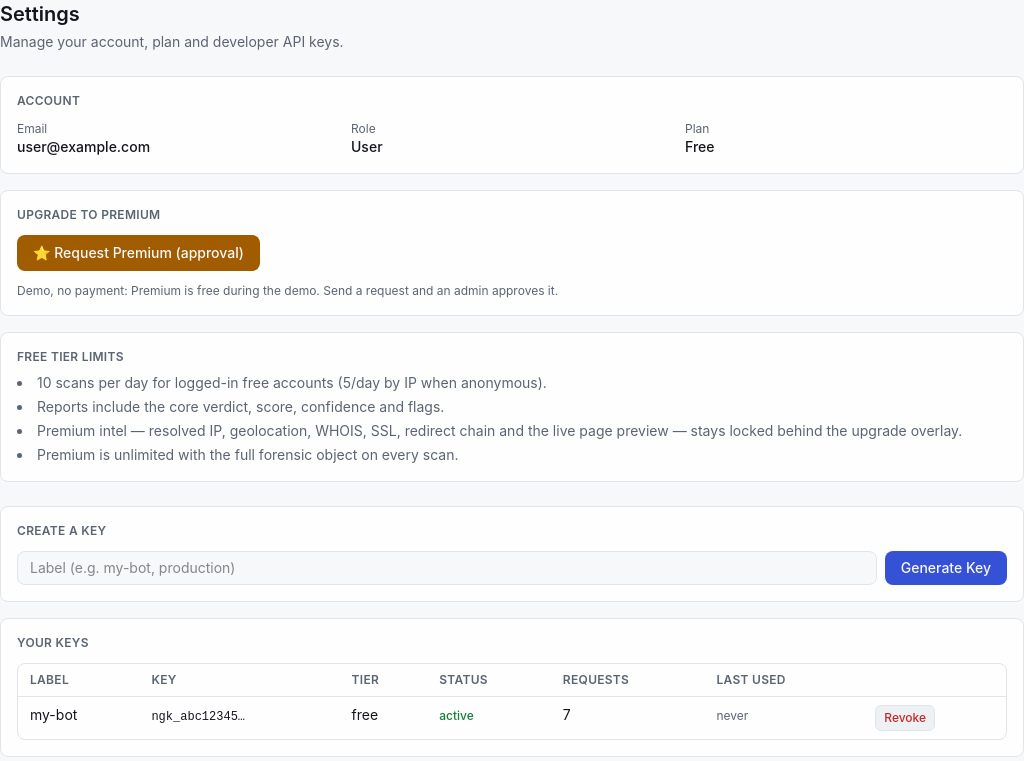
Test case: creating a key reveals the secret exactly once with a copy notice
Type "production" into the field with placeholder "Label (e.g. my-bot, production)" at (447, 568), box [17,551,877,585]
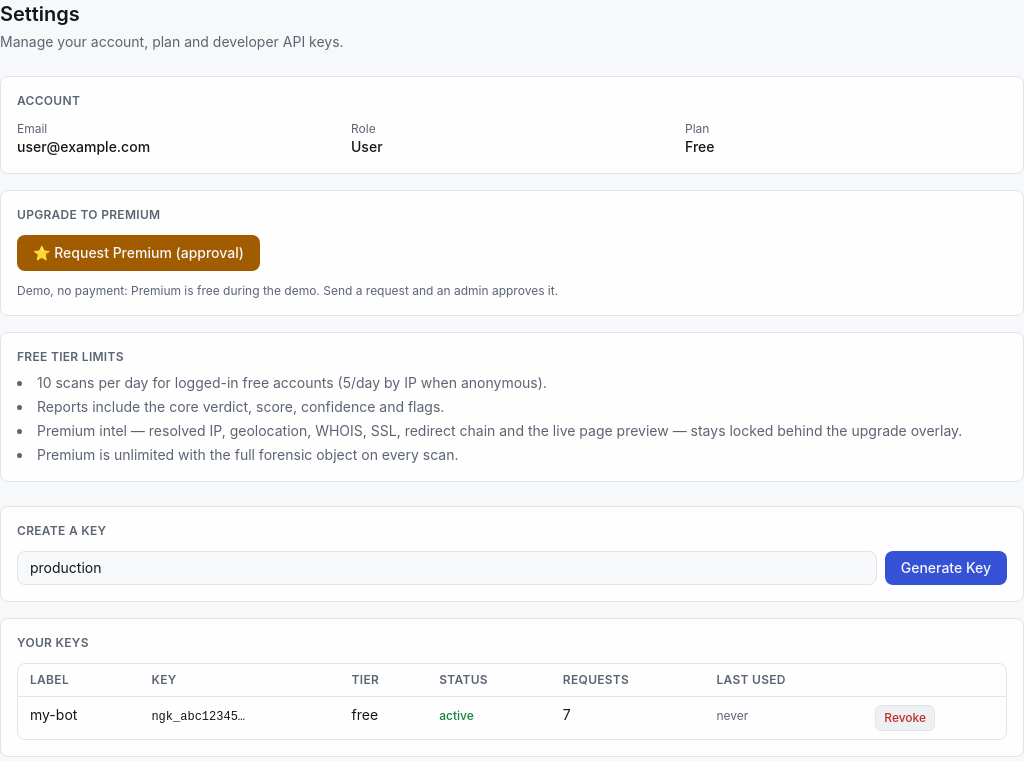
Click the button "Generate Key" at (946, 568), box [885,551,1007,585]
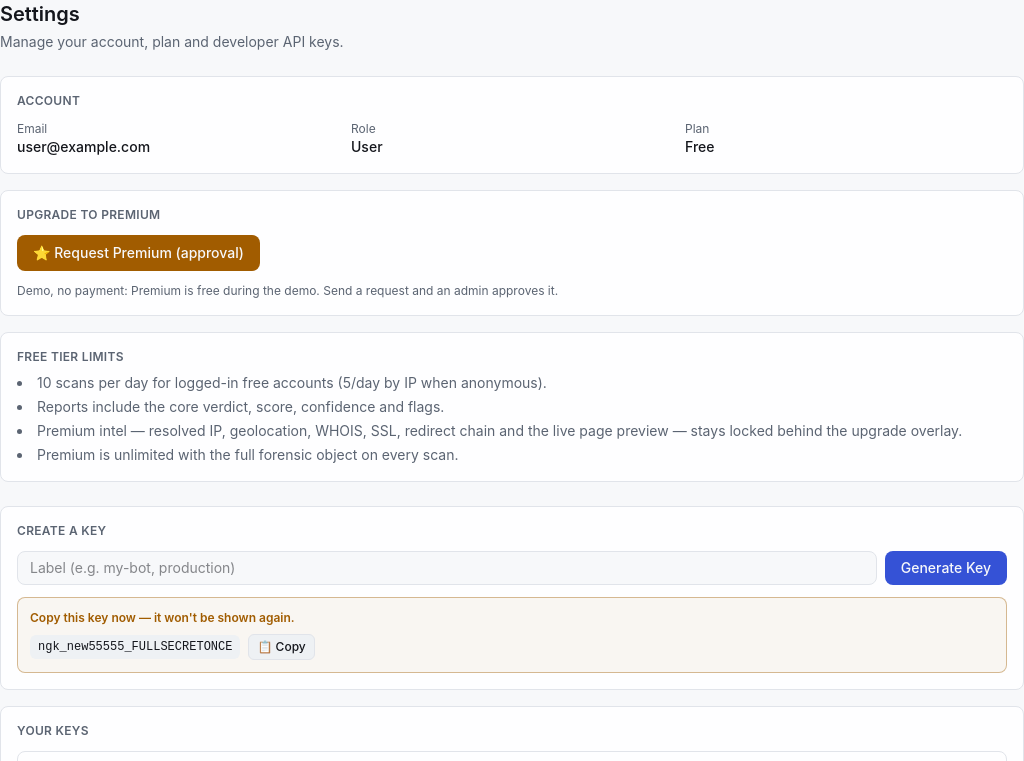
Expected: the text "ngk_new55555_FULLSECRETONCE" is shown, [30,635,240,659]
Expected: the text "Copy this key now — it won't be shown again." is shown, [30,610,295,625]
